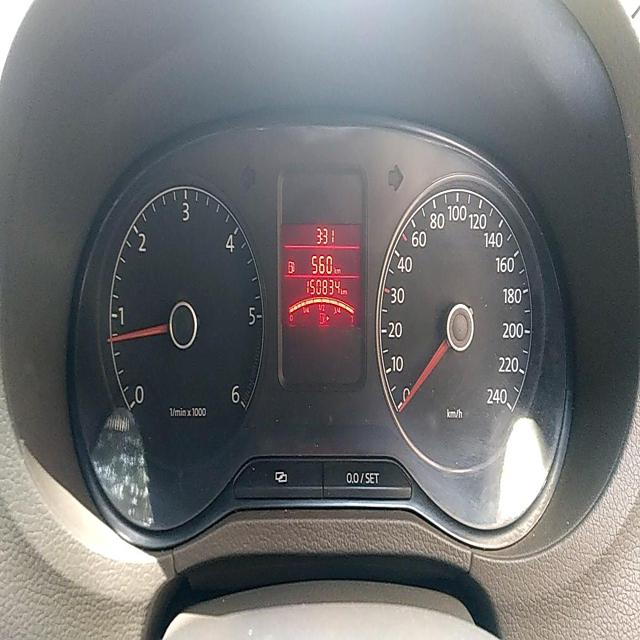odometer: (304, 275, 341, 299)
